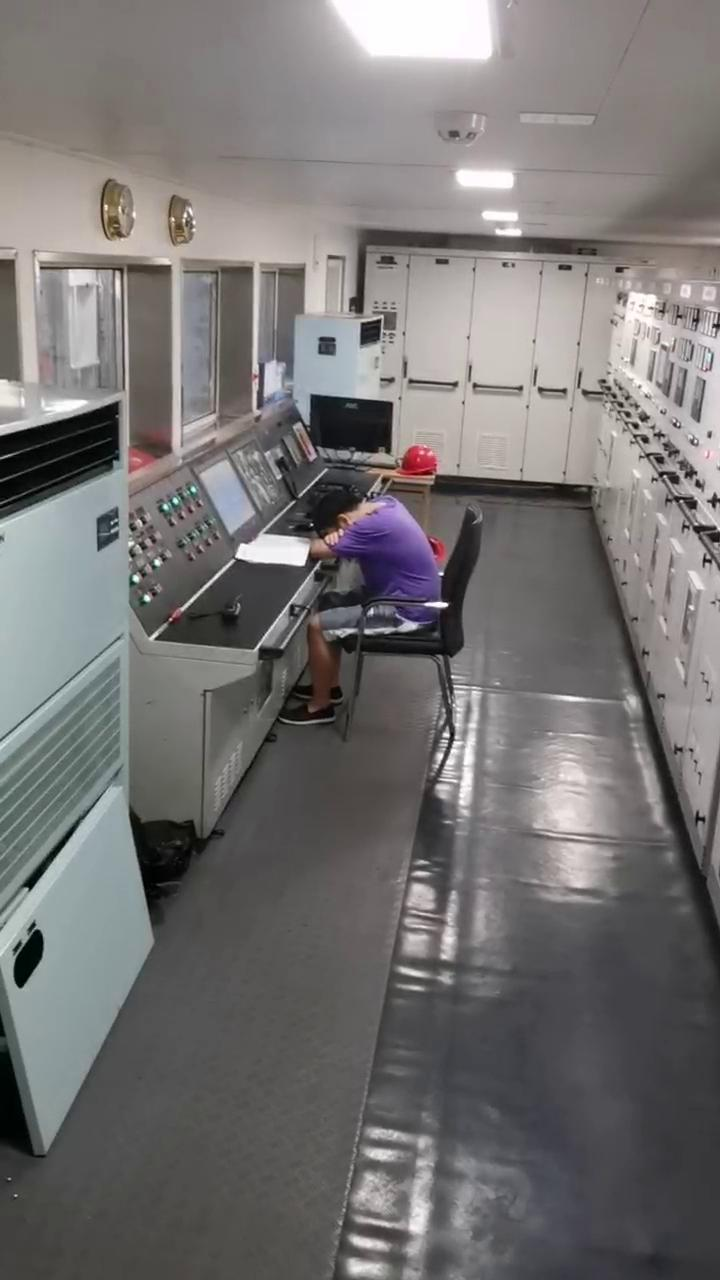sleep: (301, 493, 438, 649)
